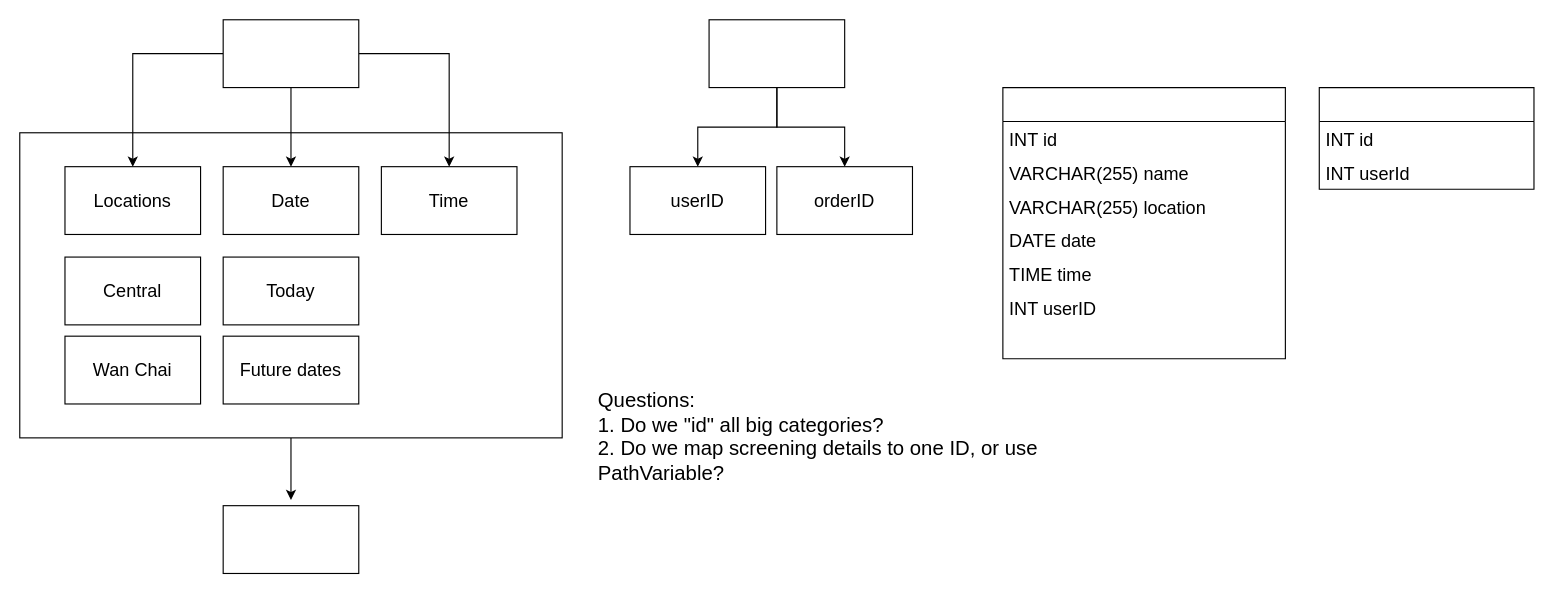
Image size: 1554x593. Some labels were removed from this diagram. Here are the shapes that lost their labels. From the top down, the box of each, then its label:
(222, 19, 359, 88): Avengers
(708, 19, 845, 88): user
(1318, 86, 1534, 189): TABLE Orders
(1002, 86, 1285, 359): TABLE Movies
(222, 505, 359, 573): screeningId
